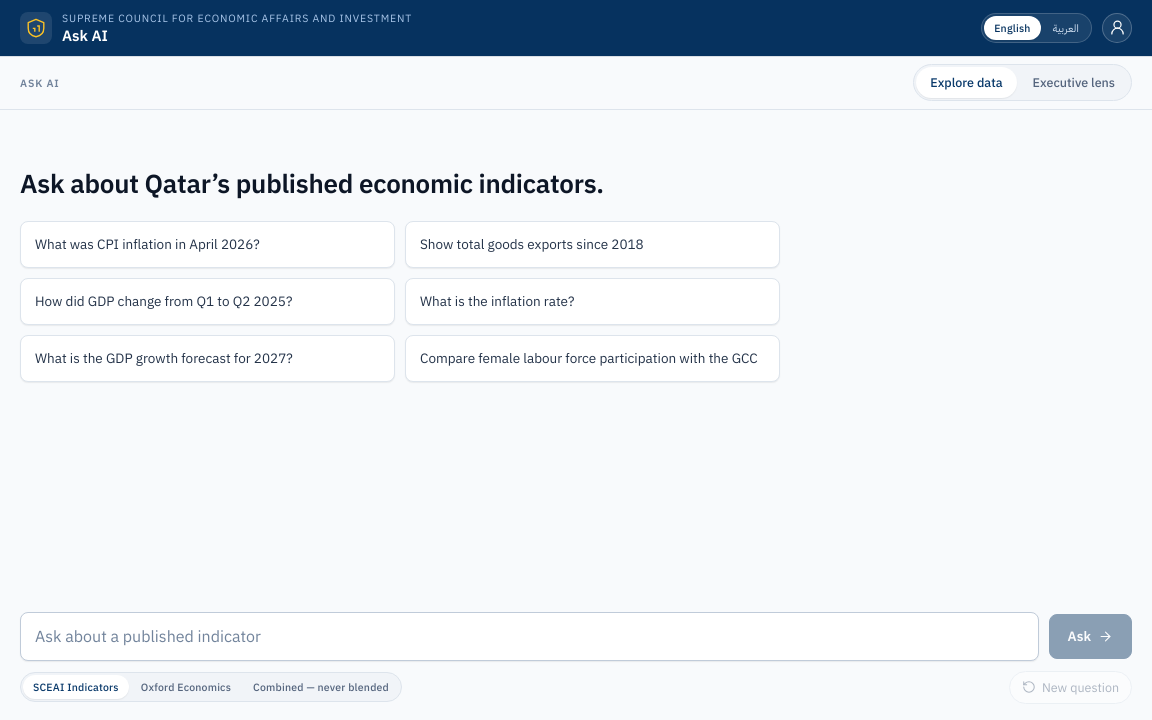
every state is reachable by typing › Show total goods exports since 2018
This screenshot has width=1152, height=720.
Type "Show total goods exports since 2018" into the field named "Your question" at x=529, y=636, box x1=20 y1=612 x2=1039 y2=661
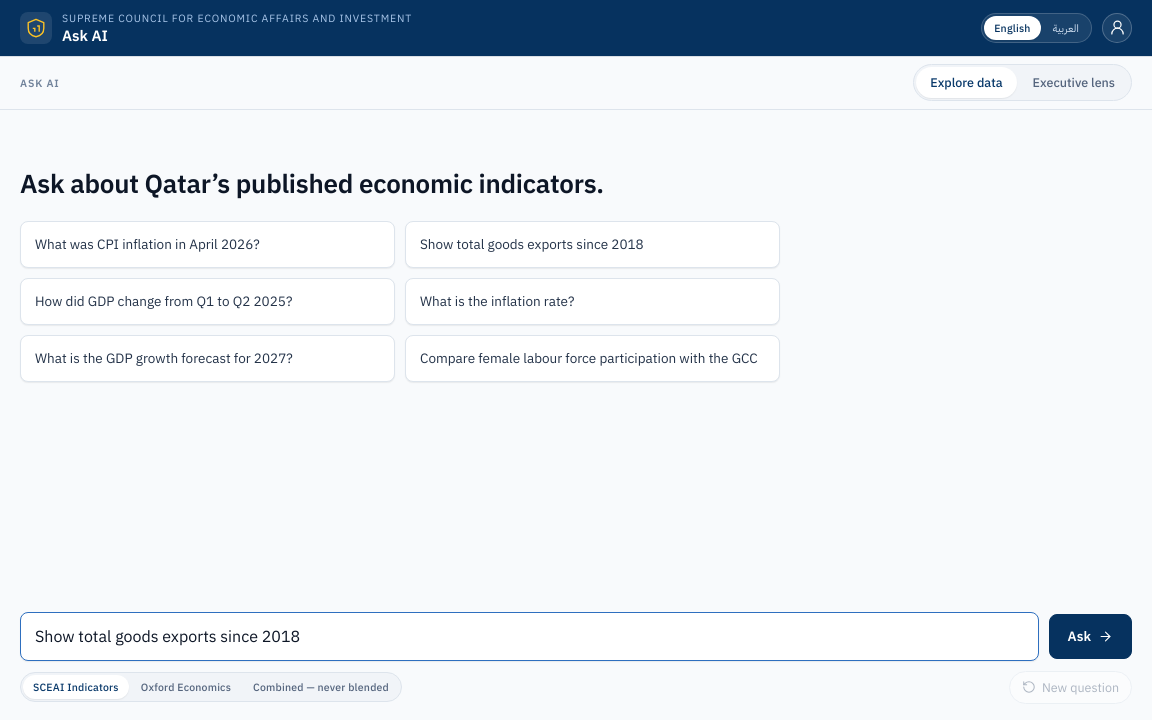
Click the button "Ask" at x=1090, y=636, box x1=1049 y1=614 x2=1132 y2=659
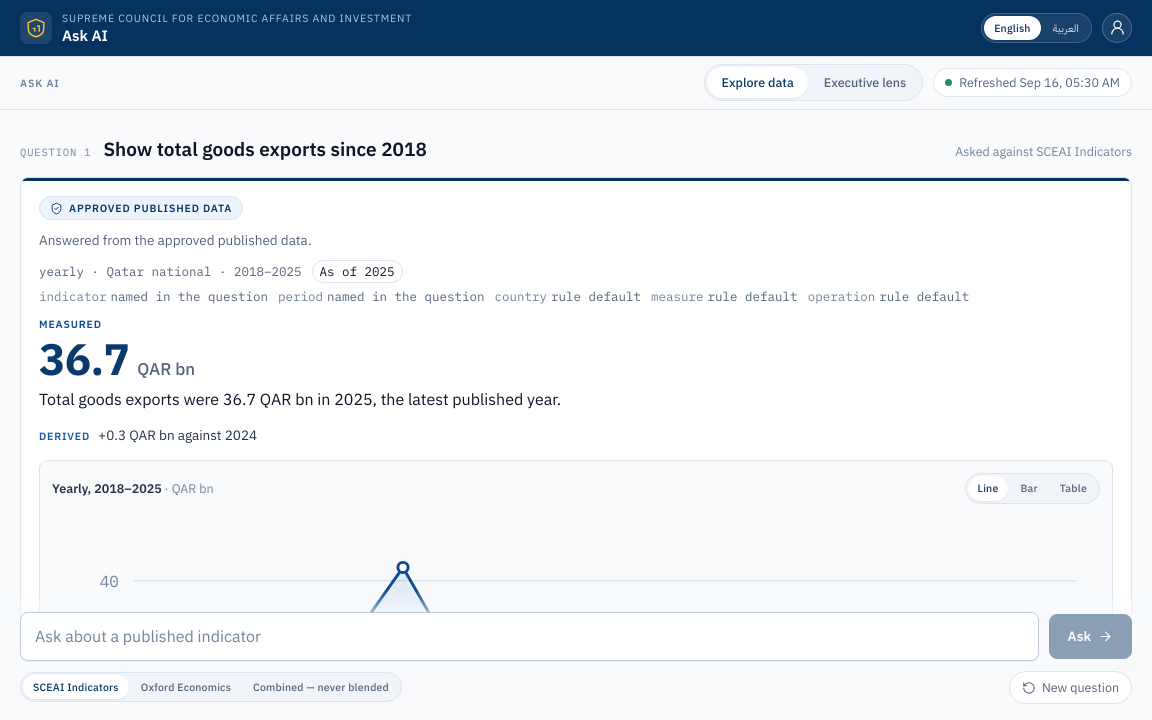
expect the text "Total goods exports were 36.7" is shown: met, box x1=39 y1=389 x2=561 y2=409
